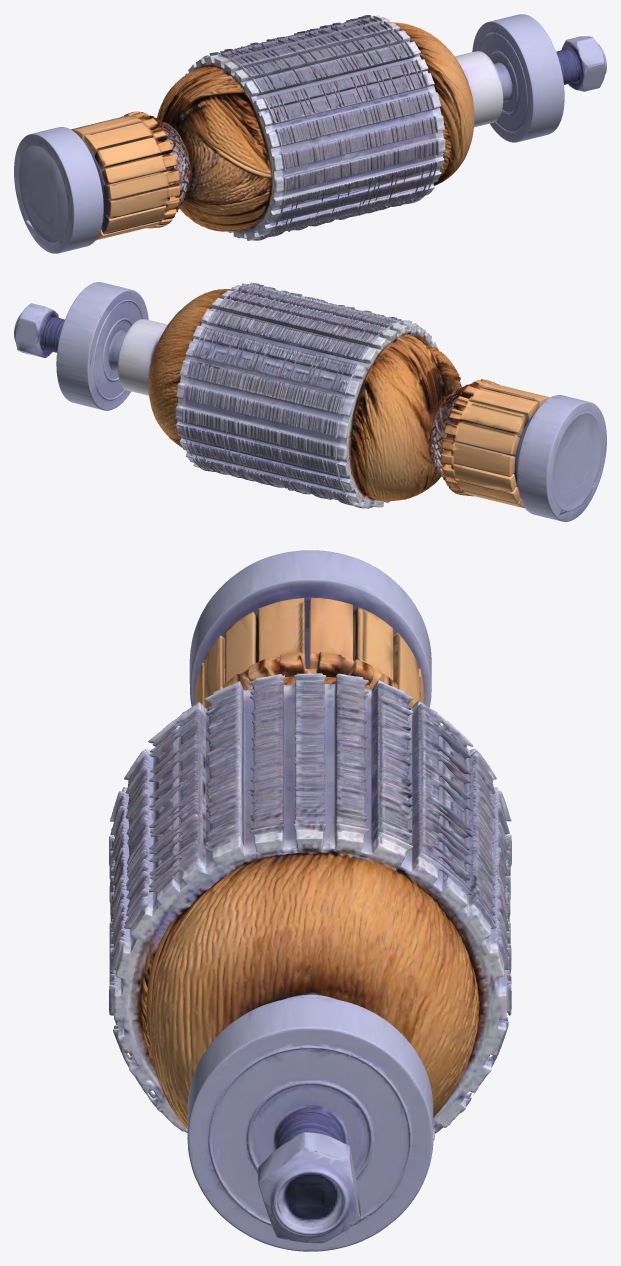
3 renders of one model, top to bottom at view 1: azimuth 30°, elevation 25°; view 2: azimuth 150°, elevation 25°; view 3: azimuth 270°, elevation 25°, orthographic. The views are drawn at different scales.
Visible parts, largest first — view 1: node_0; view 2: node_0; view 3: node_0.
Boxes of the visible parts, x1,y1,x2,y2 form: node_0: (14, 14, 606, 253); node_0: (14, 282, 606, 521); node_0: (109, 550, 511, 1251).
Size of the model in its own units: 1.18 by 0.3495 by 0.3715.
1 material, 1 textured.
